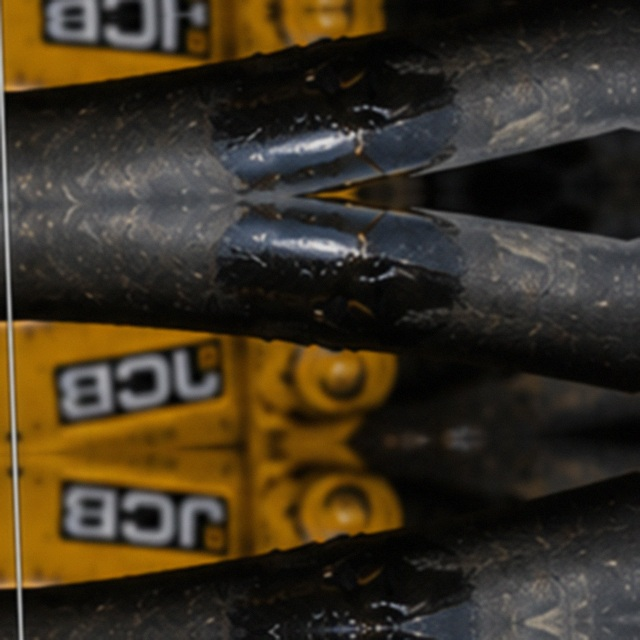hydraulic_oil_leak: (217, 253, 417, 462)
